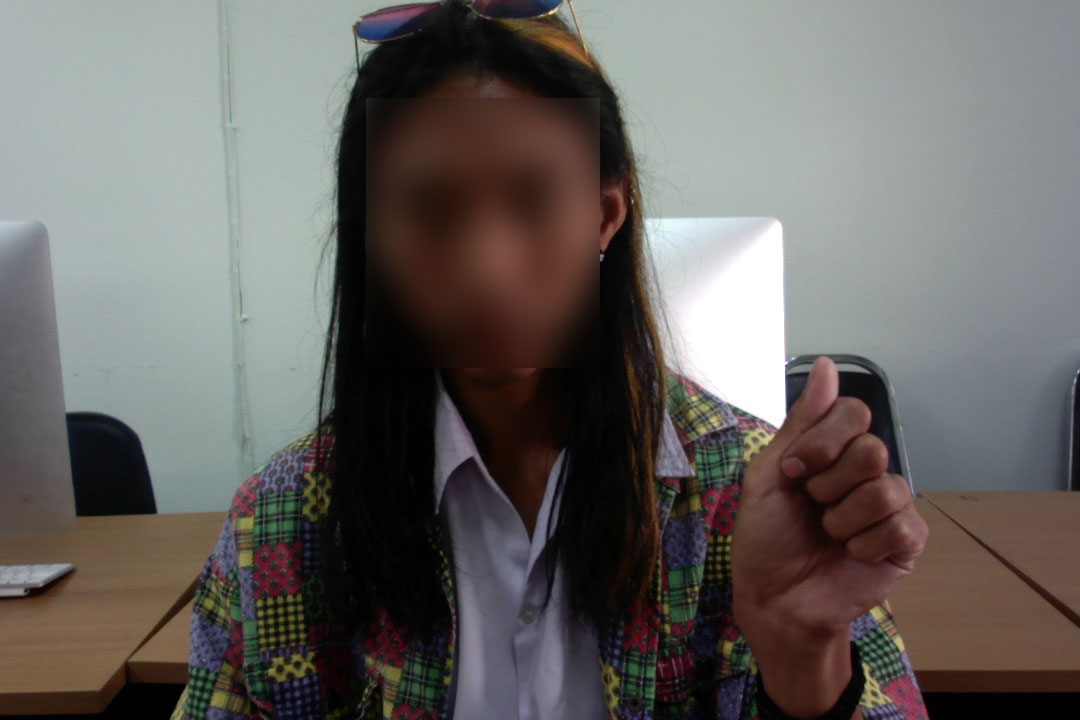or: (699, 349, 937, 632)
